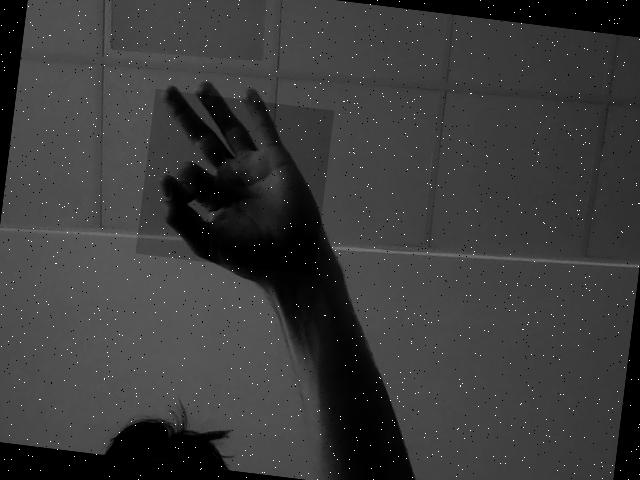OK: (136, 88, 334, 276)
